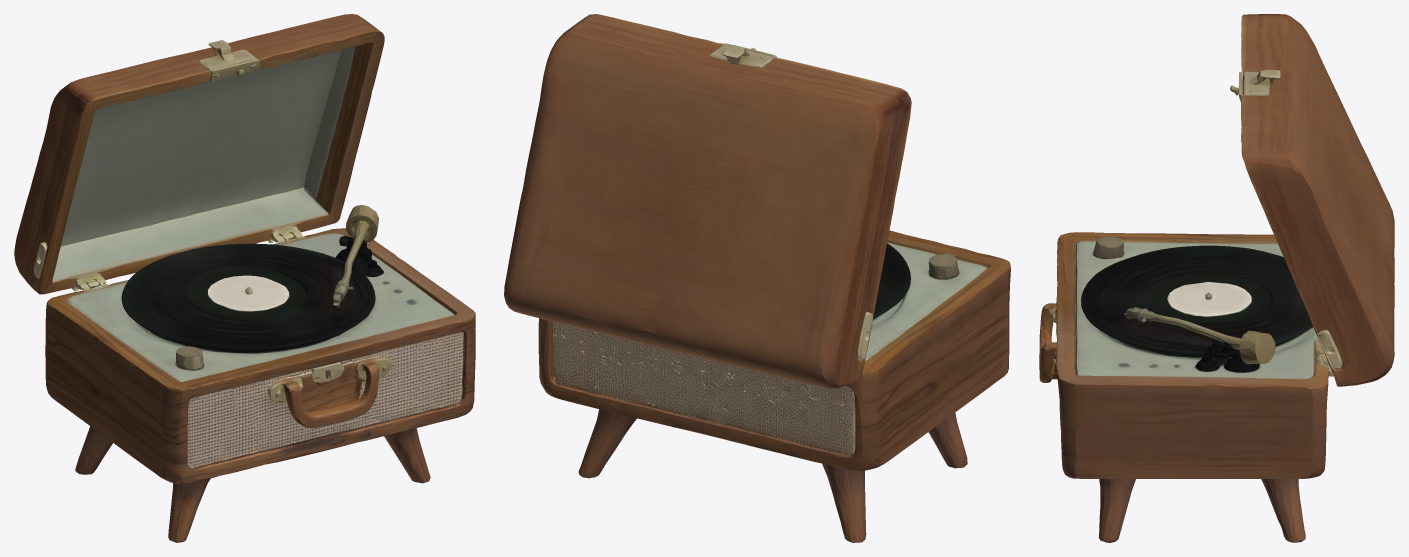
The picture shows the model from 3 angles, left to right: view 1: azimuth 30°, elevation 25°; view 2: azimuth 150°, elevation 25°; view 3: azimuth 270°, elevation 25°; orthographic projection. The views are drawn at different scales.
Visible parts, largest first — view 1: Mesh; view 2: Mesh; view 3: Mesh.
Boxes of the visible parts, bbox=[...] form: Mesh: bbox=[14, 14, 475, 542]; Mesh: bbox=[504, 14, 1010, 542]; Mesh: bbox=[1039, 14, 1394, 542].
Size of the model in its own units: 1.5 by 1.88 by 1.49.
Materials: 1 (1 with a texture image).
